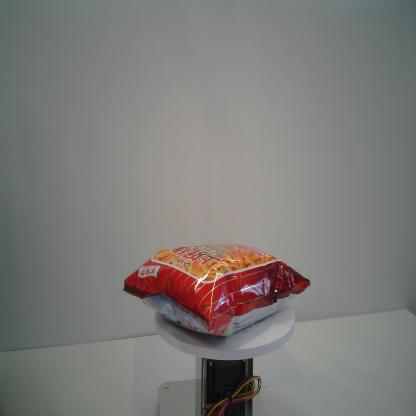Puffed Food: (122, 243, 311, 337)
